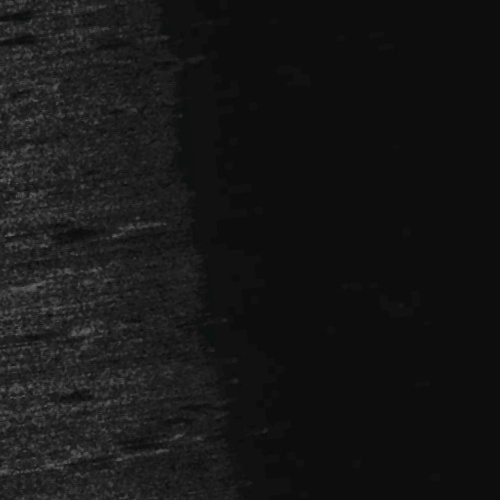object: (93, 492, 134, 499)
shadow: (29, 492, 113, 499)
